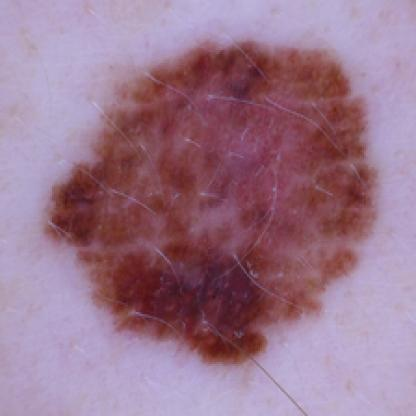Skin_Cancer-Malignant: (41, 37, 380, 370)
